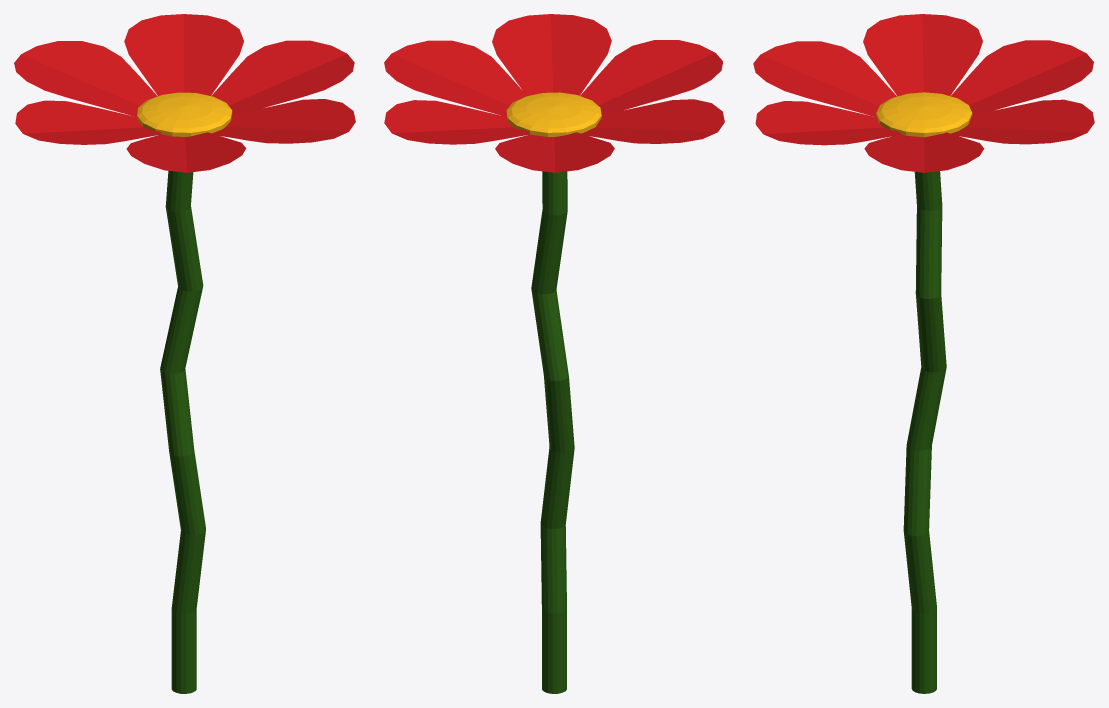
The model's file is redflower.fbx.
The picture shows the model from 3 angles, left to right: view 1: azimuth 30°, elevation 25°; view 2: azimuth 150°, elevation 25°; view 3: azimuth 270°, elevation 25°; orthographic projection.
Parts seen in each view (by area): view 1: Circle, Circle.001; view 2: Circle, Circle.001; view 3: Circle, Circle.001.
Boxes of the visible parts, x1=… form: Circle: x1=14, y1=14, x2=355, y2=172; Circle.001: x1=137, y1=92, x2=232, y2=693; Circle: x1=384, y1=14, x2=724, y2=172; Circle.001: x1=506, y1=92, x2=601, y2=693; Circle: x1=753, y1=14, x2=1094, y2=172; Circle.001: x1=876, y1=92, x2=972, y2=693.
Bounding box in the file's own units: 31.33 × 54.86 × 28.46.
